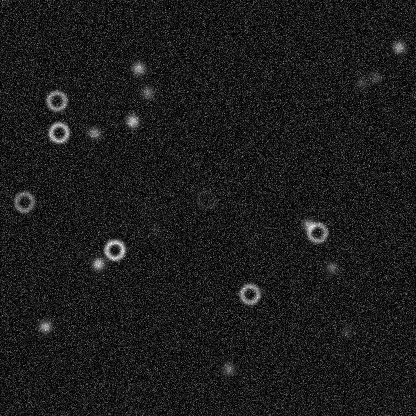Ring: (193, 186, 217, 210), (305, 220, 329, 244), (46, 120, 70, 144), (44, 88, 68, 112), (12, 189, 36, 213), (102, 237, 126, 261), (237, 281, 261, 305)
Spot: (124, 113, 140, 129), (300, 216, 316, 232), (337, 323, 353, 339), (323, 259, 339, 275), (86, 124, 102, 140), (147, 221, 163, 237), (130, 60, 146, 76), (220, 360, 236, 376), (90, 255, 106, 271), (353, 74, 369, 90), (367, 69, 383, 85), (37, 318, 53, 334), (139, 84, 155, 100), (390, 39, 406, 55)
